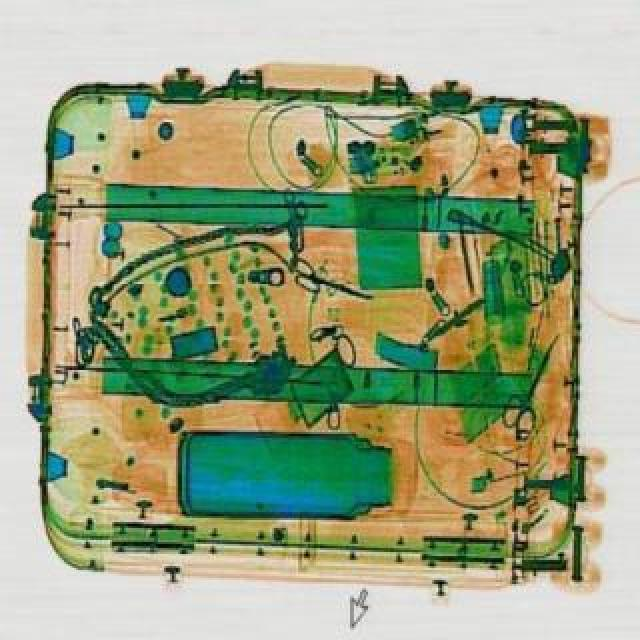pliers: (490, 330, 578, 446), (282, 262, 374, 314)
